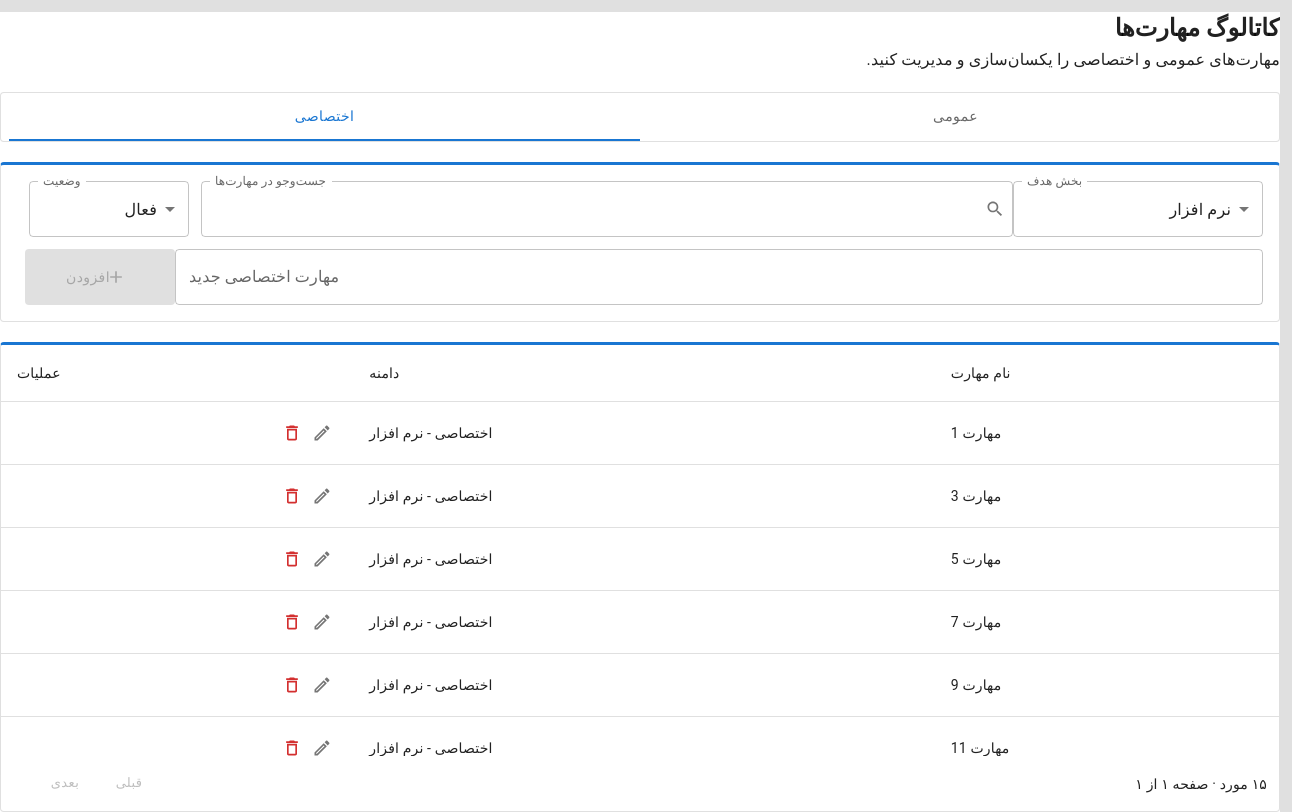
Scenario: DepartmentCatalogPage › shows a clear error when creating a duplicate skill fails
Expected: the heading "کاتالوگ مهارت‌ها" is shown, [1115,14,1280,42]
Type "مهارت تکراری" into the field labelled "مهارت اختصاصی جدید" at (719, 277), box [175,249,1263,305]
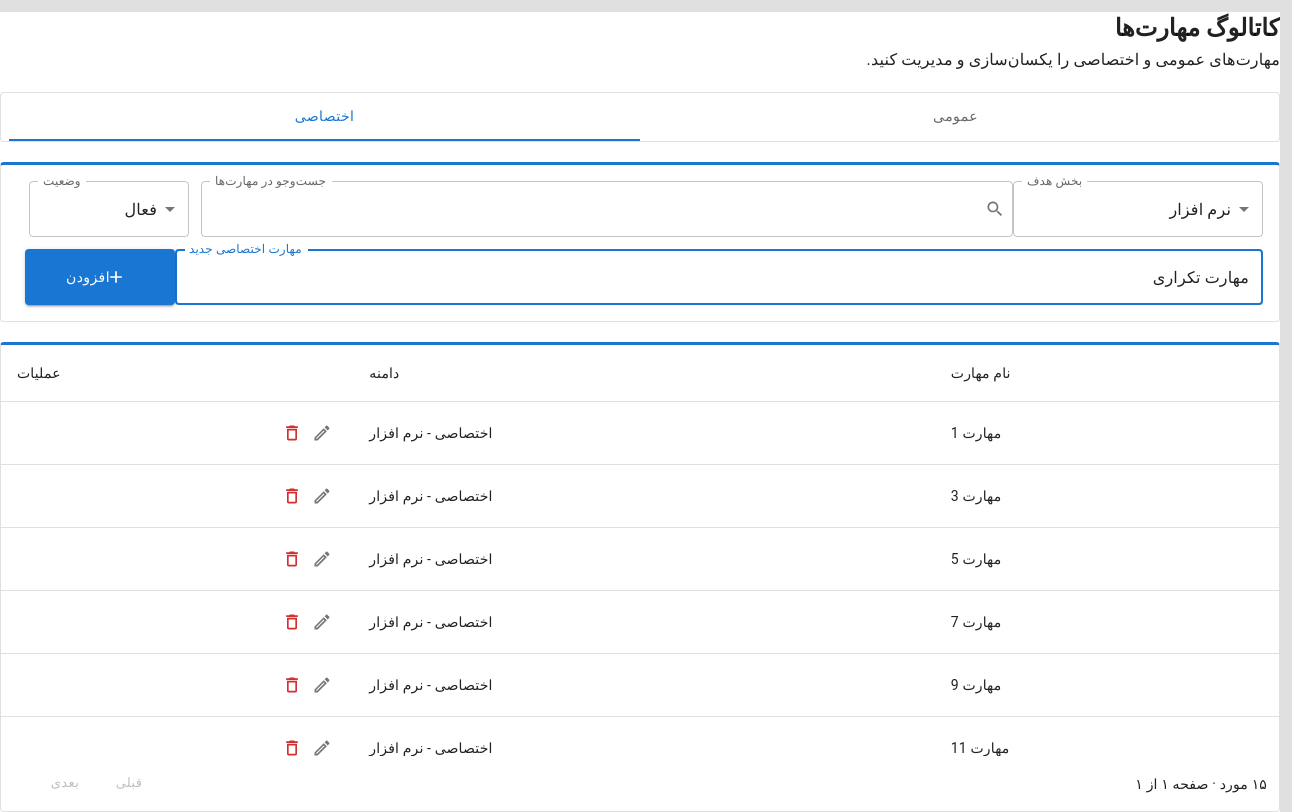
Click the button "افزودن" at (100, 277), box [25,249,175,305]
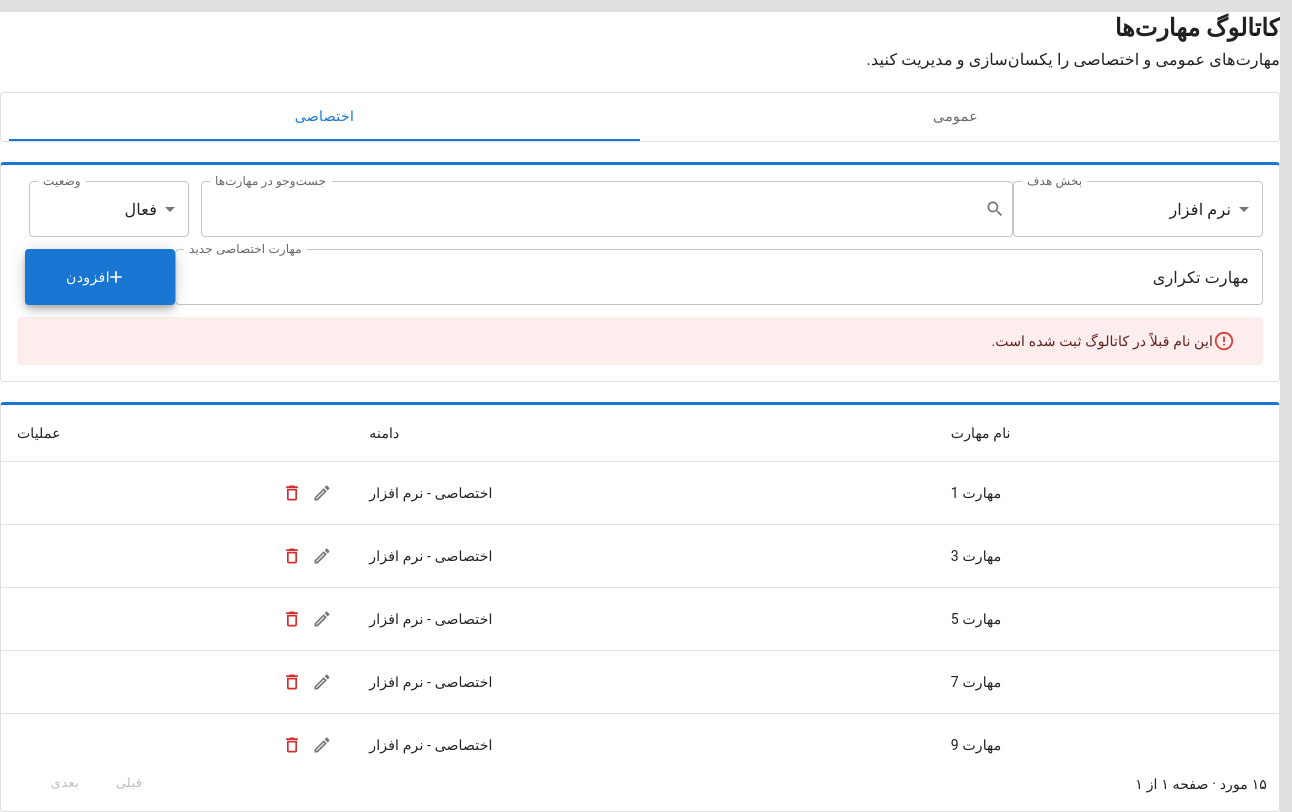
Expected: the text "این نام قبلاً در کاتالوگ ثبت شده است." is shown, [991,333,1213,349]
